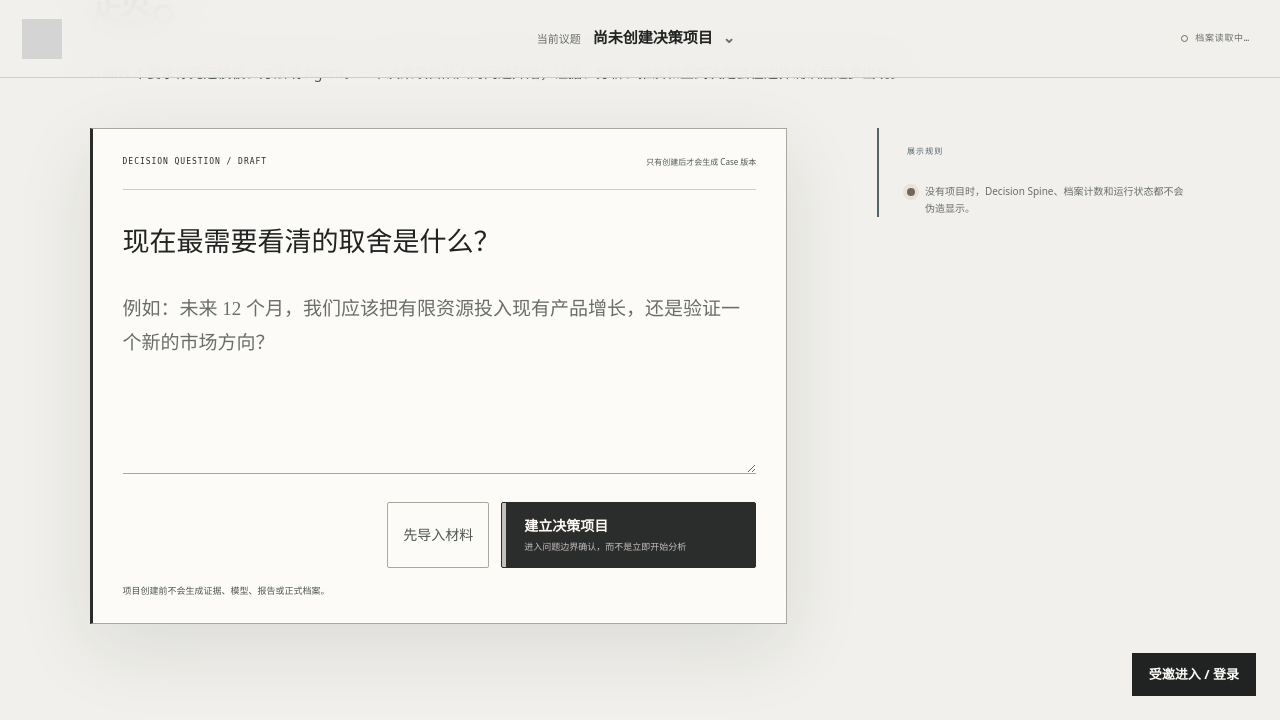
Test: Case shell route skeleton (Task 11 Phase 0 Session A) › keeps an honest failure notice when the create flow fails
(page scrolled)
Step 1. Type "先验证哪一个市场方向？" into the text box labelled "现在最需要看清的取舍是什么？" → (439, 376), box [123,278,756,474]
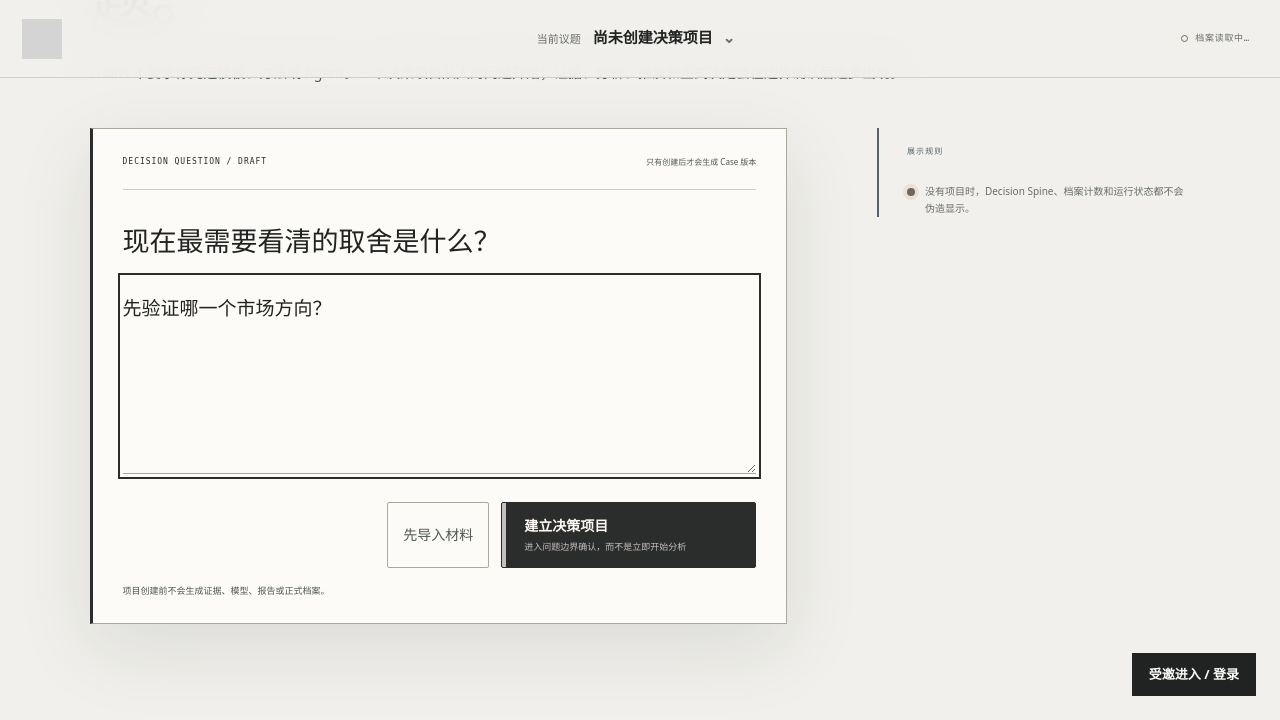
Step 2. Click the button "建立决策项目 进入问题边界确认，而不是立即开始分析" → click(629, 535), box [501,502,756,568]
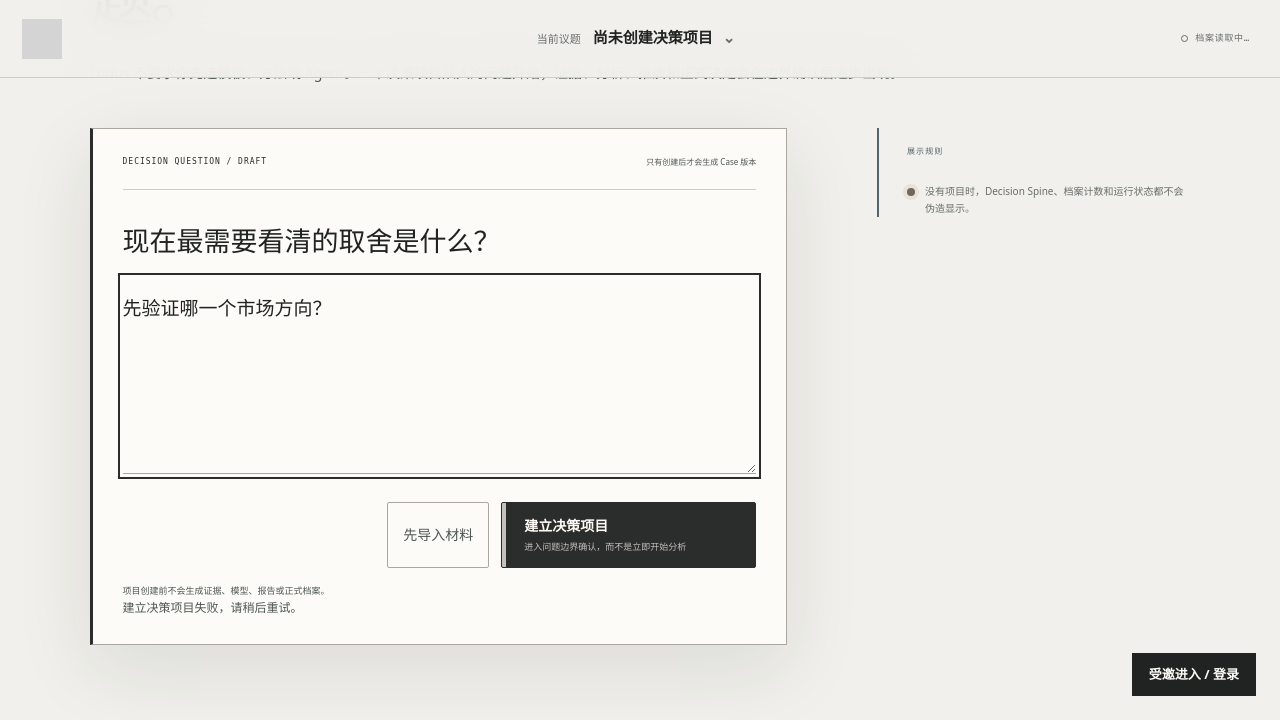
Check: the message reads "建立决策项目失败，请稍后重试。", box [123,599,303,616]
